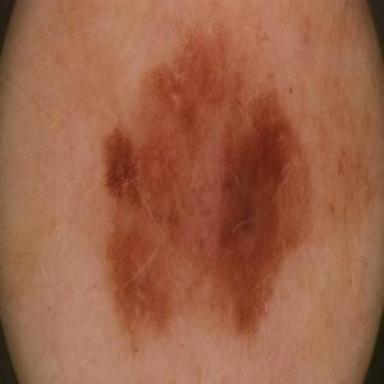Melanoma: (106, 24, 307, 337)
